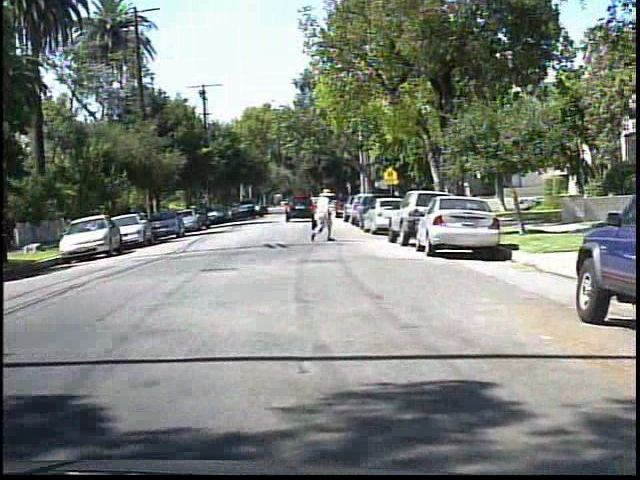person: (308, 185, 340, 244)
